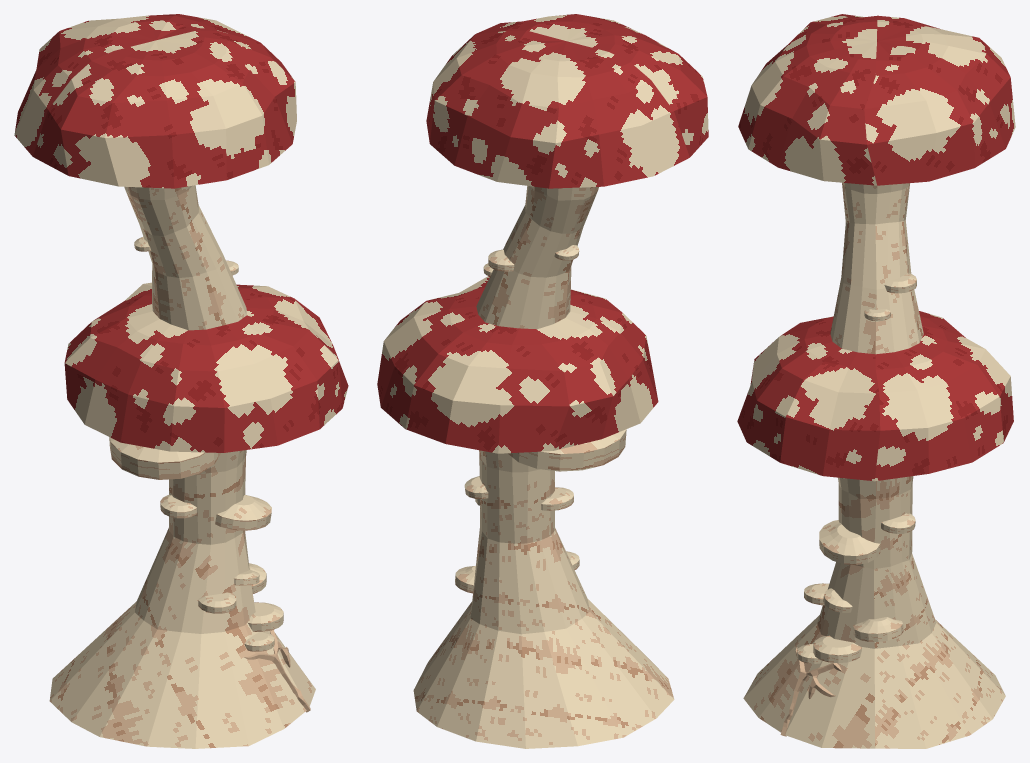
The model's file is mushroom_tall.fbx.
The picture shows the model from 3 angles, left to right: view 1: azimuth 30°, elevation 25°; view 2: azimuth 150°, elevation 25°; view 3: azimuth 270°, elevation 25°; orthographic projection. The views are drawn at different scales.
Visible parts, largest first — view 1: Mushroom_Large; view 2: Mushroom_Large; view 3: Mushroom_Large.
Part boxes in pixels (x1,y1,x2,y2): Mushroom_Large: (14,14,348,748); Mushroom_Large: (377,14,708,748); Mushroom_Large: (737,14,1015,748).
Bounding box in the file's own units: 713 × 1524 × 594.
